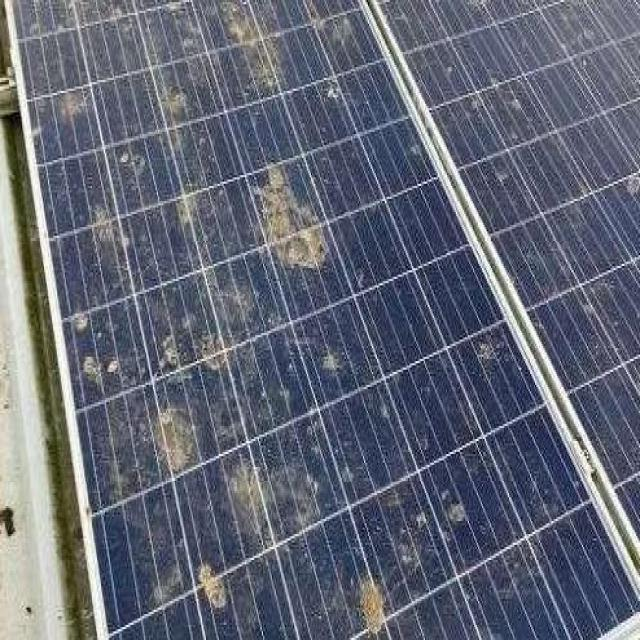soiled: (19, 2, 636, 640)
